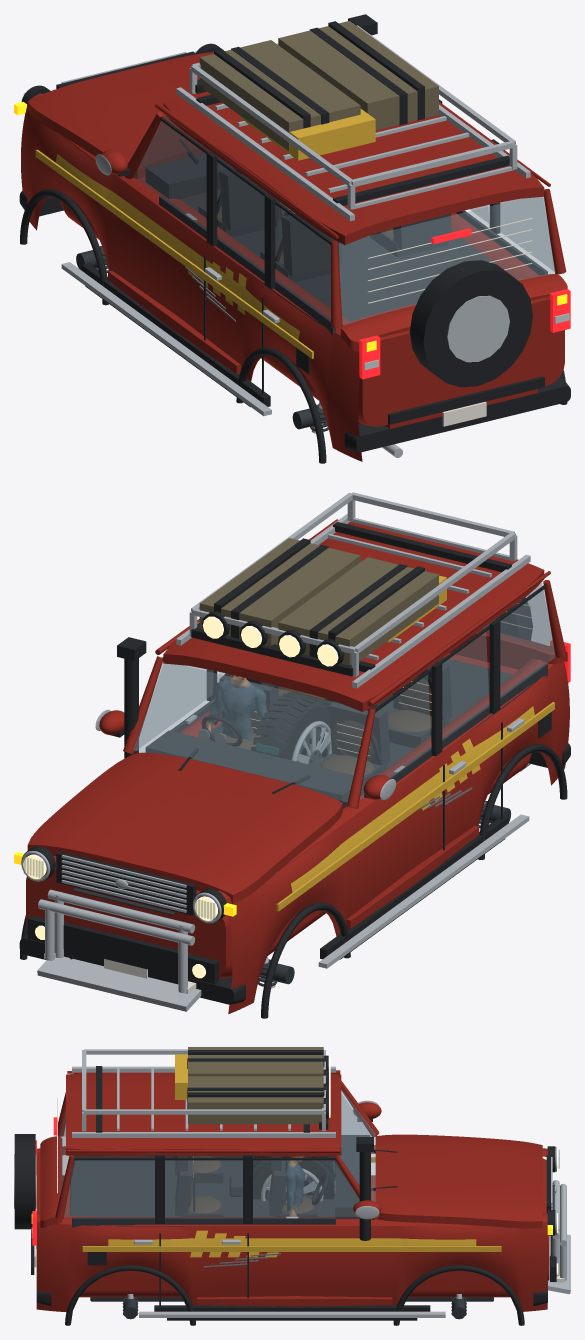
The model's file is dragon-cruiser.glb.
The picture shows the model from 3 angles, top to bottom: view 1: azimuth 30°, elevation 25°; view 2: azimuth 150°, elevation 25°; view 3: azimuth 270°, elevation 25°; orthographic projection. The views are drawn at different scales.
Parts seen in each view (by area): view 1: body_high, body_low, cosmetic_carrier (×2), cosmetic_basket, cosmetic_trail (×2), cosmetic_stripe (×2), cosmetic_summit; view 2: body_high, body_low, cosmetic_carrier (×2), cosmetic_trail (×2), cosmetic_basket, cosmetic_lamps, cosmetic_stripe (×2), wheel_high, rim_touring, cosmetic_summit; view 3: body_high, body_low, cosmetic_carrier (×2), cosmetic_trail (×2), cosmetic_basket, cosmetic_stripe (×2), wheel_high, cosmetic_summit, cosmetic_lamps, wheel_low.
Boxes of the visible parts, box(x1,y1,x2,y2) form: body_high: box(14, 15, 570, 463); body_low: box(14, 14, 570, 459); cosmetic_carrier (×2): box(199, 21, 438, 151); cosmetic_basket: box(189, 25, 517, 209); cosmetic_trail (×2): box(61, 262, 271, 415); cosmetic_stripe (×2): box(56, 154, 299, 340); cosmetic_summit: box(186, 250, 246, 314); body_high: box(15, 514, 570, 1018); body_low: box(14, 514, 570, 1014); cosmetic_carrier (×2): box(199, 538, 438, 665); cosmetic_trail (×2): box(37, 814, 529, 1011); cosmetic_basket: box(189, 492, 517, 676); cosmetic_lamps: box(191, 611, 353, 676); cosmetic_stripe (×2): box(291, 706, 534, 892); wheel_high: box(251, 692, 331, 759); rim_touring: box(291, 721, 331, 765); cosmetic_summit: box(416, 738, 480, 810); body_high: box(14, 1056, 563, 1325); body_low: box(14, 1054, 564, 1324); cosmetic_carrier (×2): box(187, 1047, 324, 1124); cosmetic_trail (×2): box(139, 1183, 570, 1317); cosmetic_basket: box(82, 1049, 325, 1131); cosmetic_stripe (×2): box(108, 1238, 476, 1245); wheel_high: box(253, 1156, 335, 1198); cosmetic_summit: box(190, 1230, 283, 1257); cosmetic_lamps: box(319, 1055, 330, 1129); wheel_low: box(253, 1156, 334, 1199).
Size of what is drawn, in the model's own units: 2.41 by 2.3 by 5.34.
